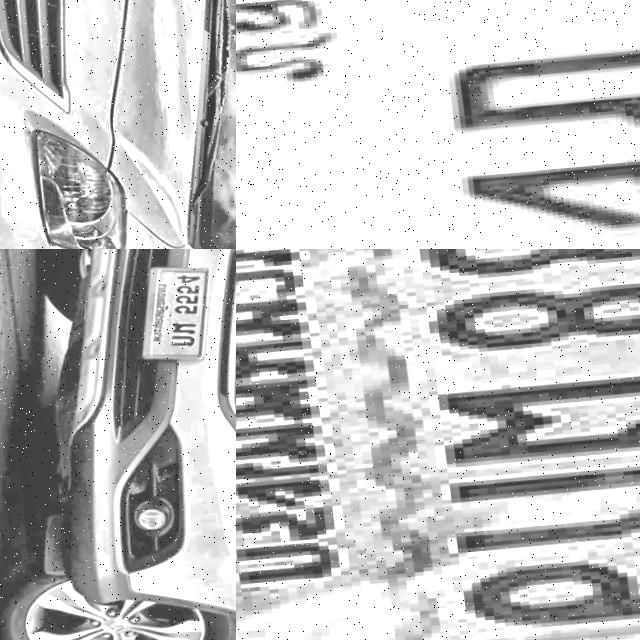license-plate: (236, 249, 640, 640), (236, 0, 640, 249), (125, 265, 218, 372)
